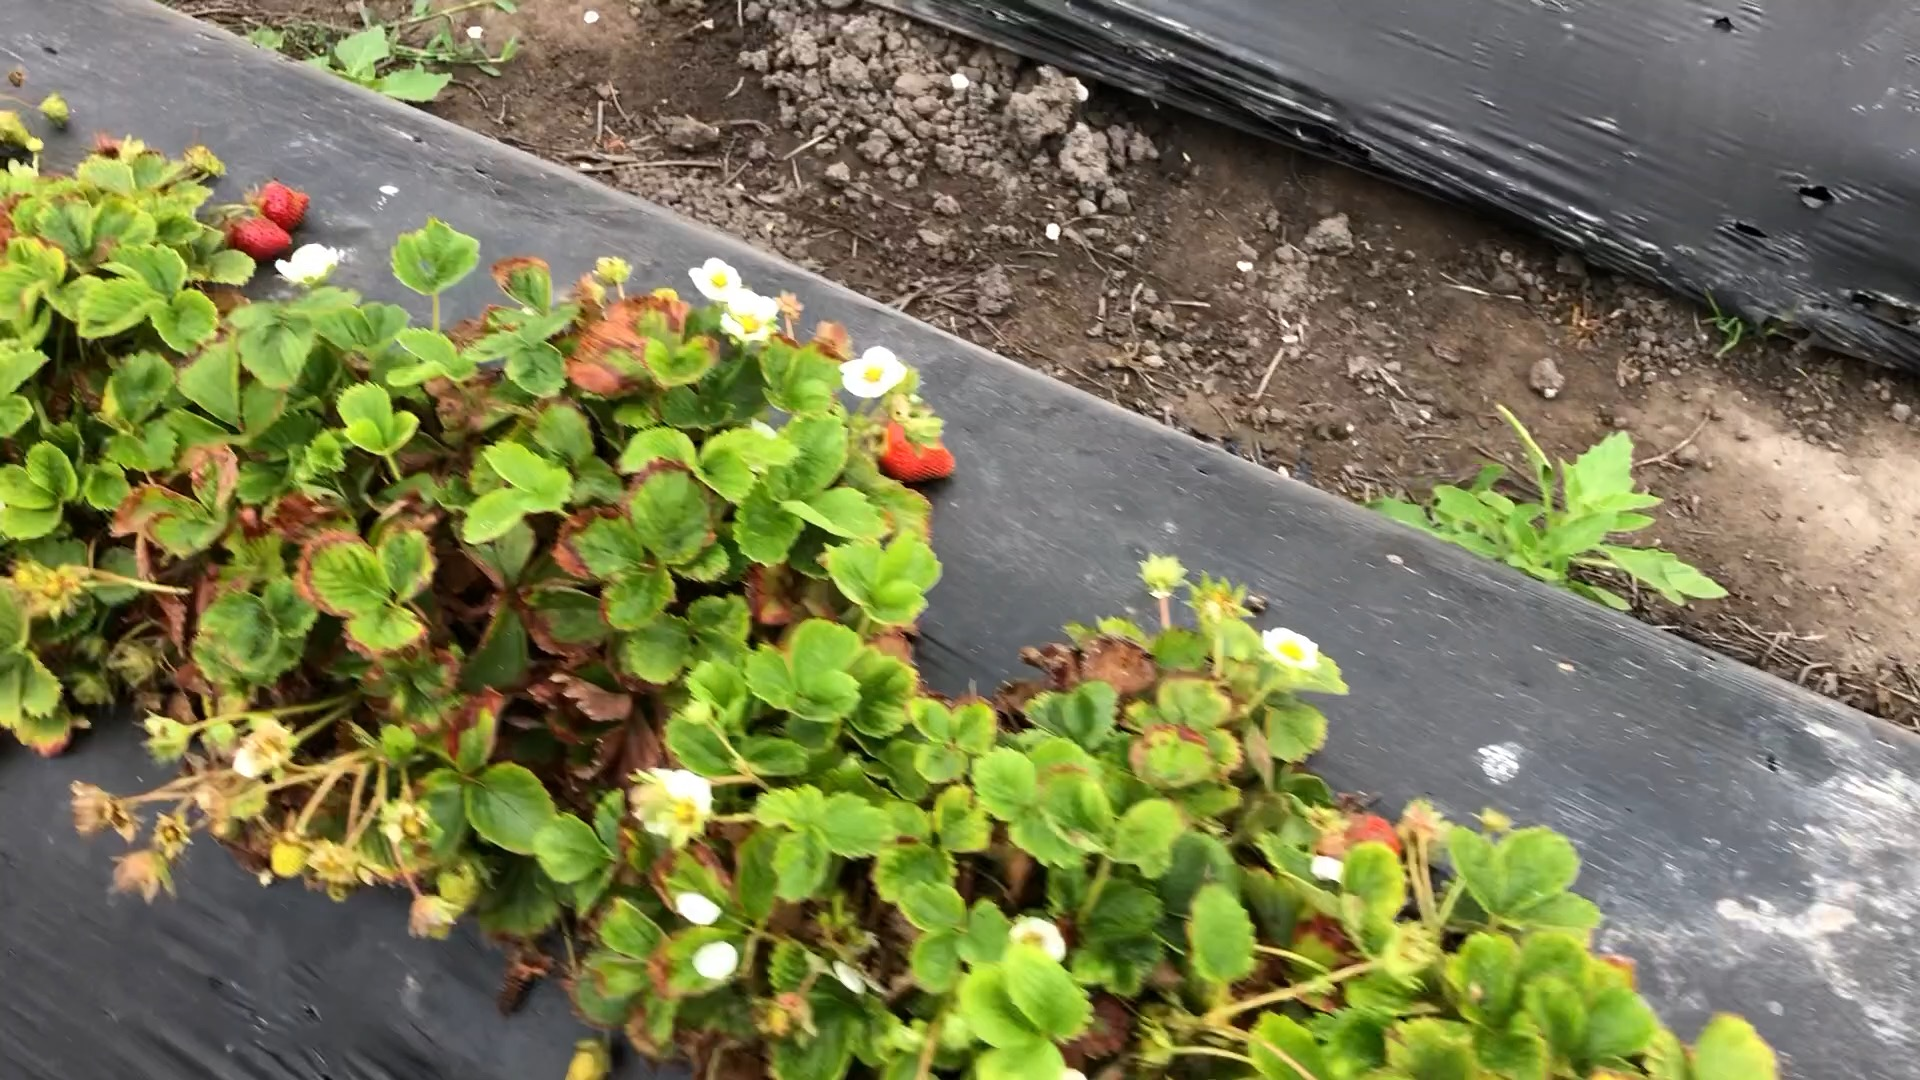ripe_strawberry: (874, 411, 960, 484), (222, 210, 297, 264), (244, 182, 314, 233)
unripe_strawberry: (431, 861, 489, 918), (266, 829, 315, 881), (560, 1038, 618, 1080)
